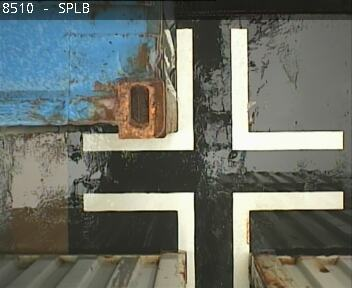groundmarker_1: (83, 29, 343, 153), (84, 190, 344, 288)
